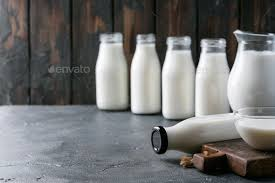milk: (227, 23, 275, 120), (149, 111, 243, 153), (92, 26, 128, 118), (164, 32, 194, 120), (131, 28, 159, 120), (199, 37, 231, 113)
